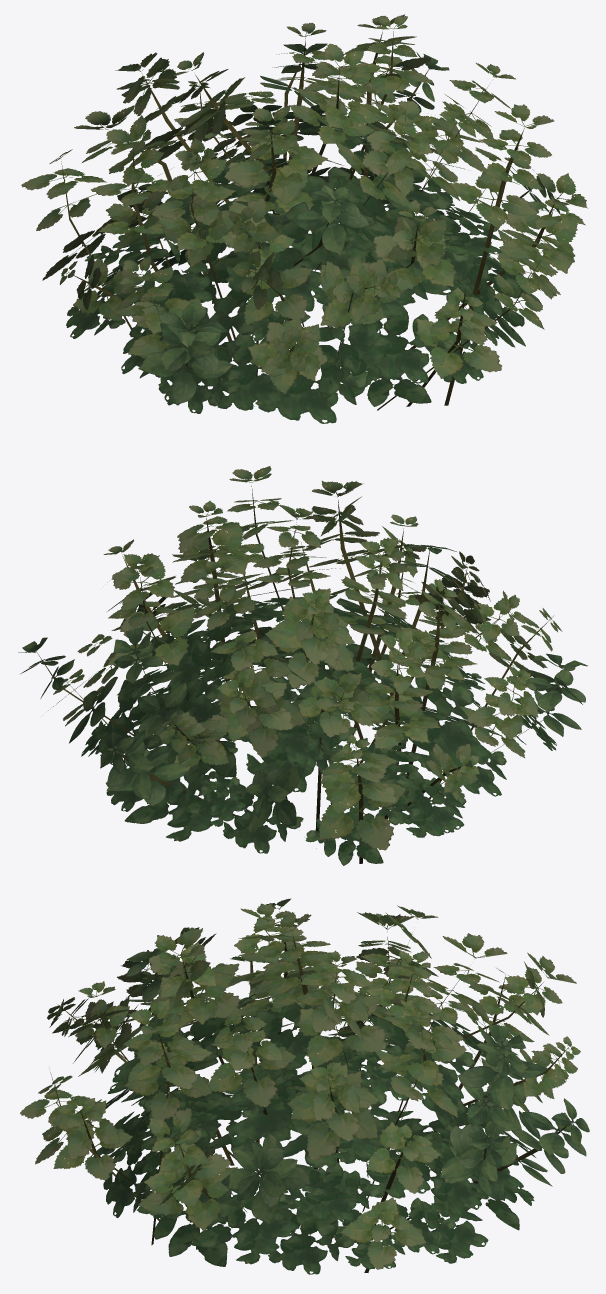
File: Bush2.fbx
The picture shows the model from 3 angles, top to bottom: view 1: azimuth 30°, elevation 25°; view 2: azimuth 150°, elevation 25°; view 3: azimuth 270°, elevation 25°; orthographic projection. The views are drawn at different scales.
Parts seen in each view (by area): view 1: SM_cmn_mount_Bush_02a; view 2: SM_cmn_mount_Bush_02a; view 3: SM_cmn_mount_Bush_02a.
Part boxes in pixels (box(x1,y1,x2,y2)): SM_cmn_mount_Bush_02a: box(21, 14, 587, 423); SM_cmn_mount_Bush_02a: box(18, 466, 587, 865); SM_cmn_mount_Bush_02a: box(20, 898, 589, 1274).
Bounding box in the file's own units: 188 × 120 × 199.
